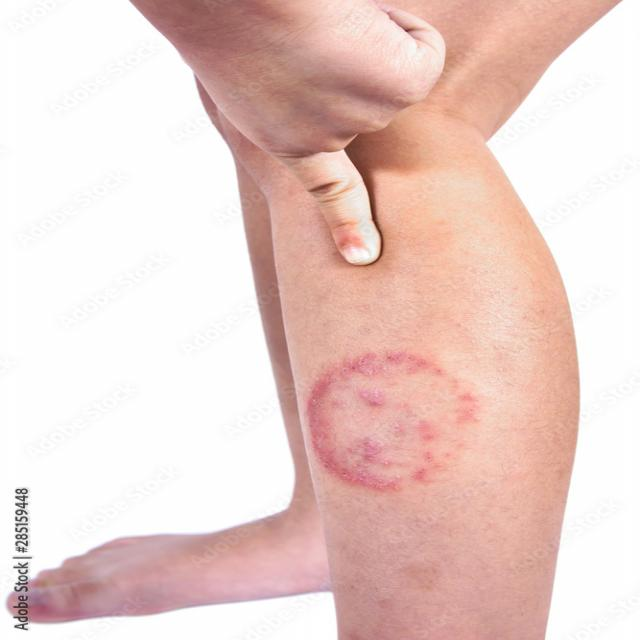tinea: (294, 363, 488, 478)
